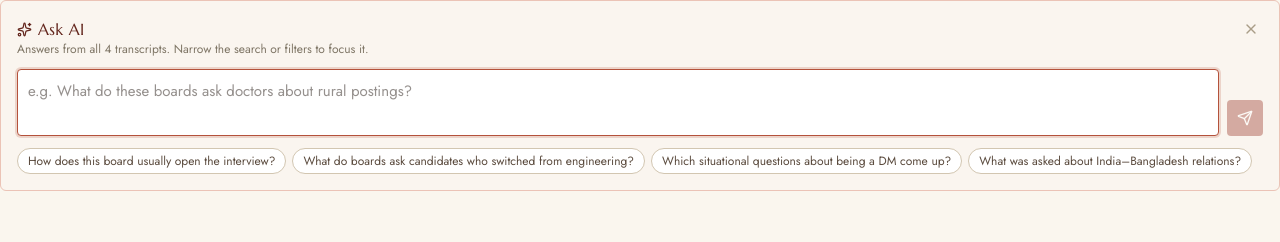
Test: asks an example question and shows errors
The image size is (1280, 242).
Click the button "How does this board usually open the interview?".
click(152, 161)  # box [17,148,286,174]
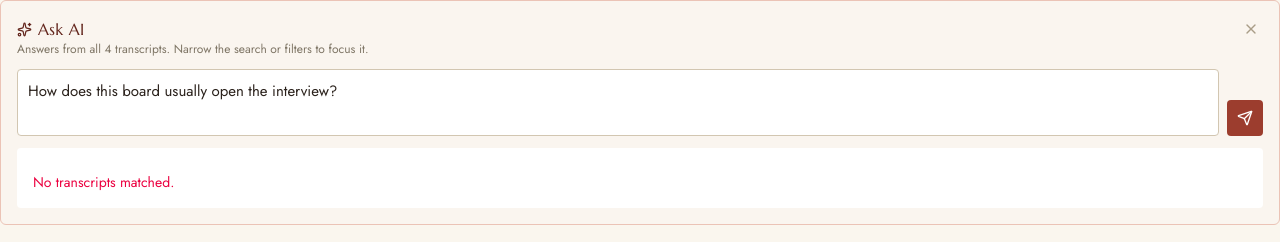
Now the text "No transcripts matched." is shown, box [33,172,174,192]
